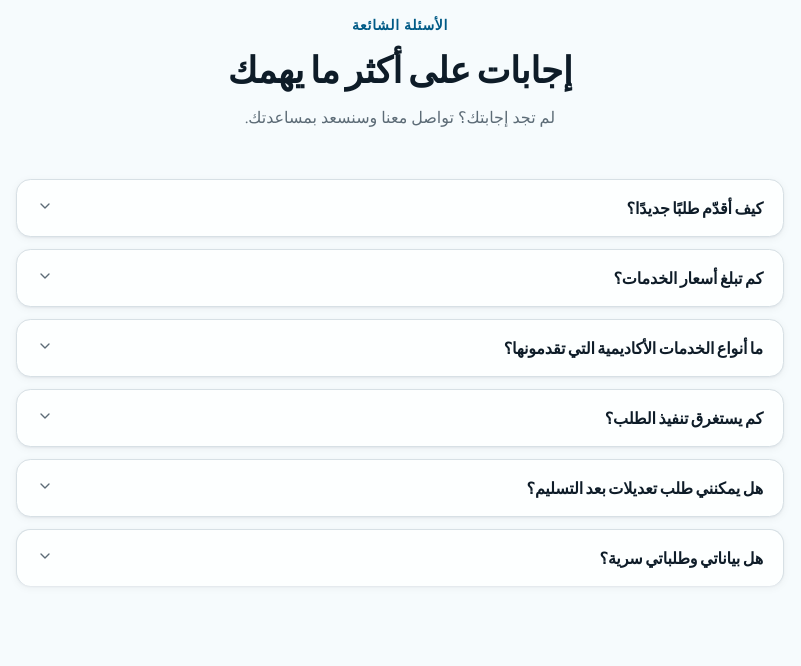
Test: home page sections › shows the accepted homework label in the services FAQ answer
Click the button "ما أنواع الخدمات الأكاديمية التي تقدمونها؟".
click(633, 348)  # box [37,320,763,376]
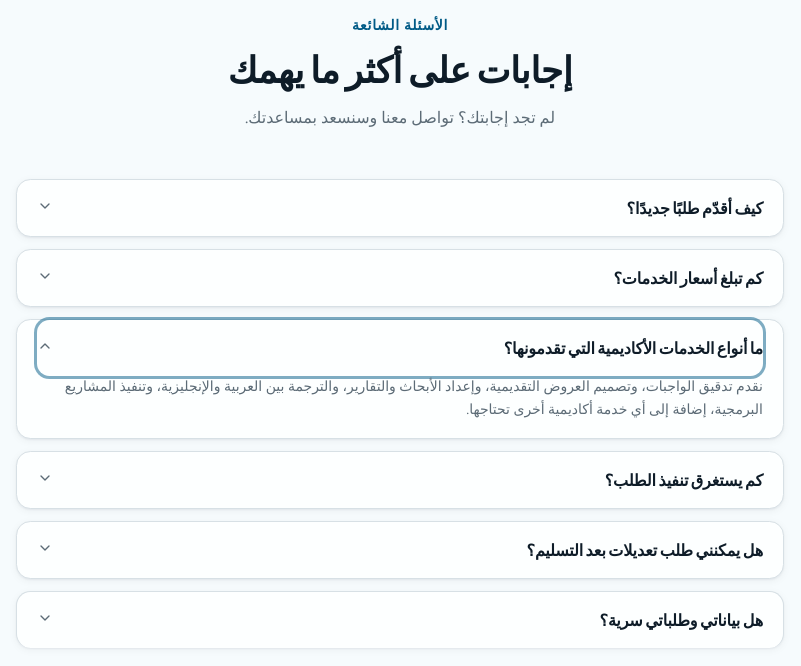
expect the text "نقدم تدقيق الواجبات" is shown: met, box [65,378,763,418]
